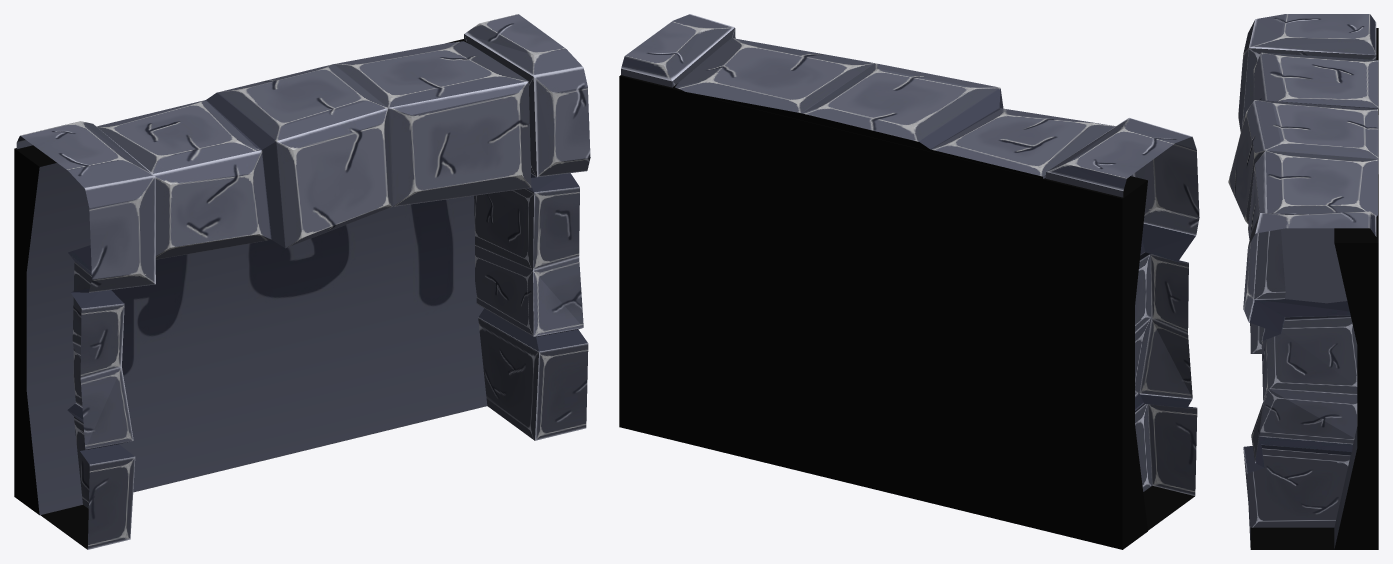
File: Black Back Face.FBX
3 views of the same model, side by side, from view 1: azimuth 30°, elevation 25°; view 2: azimuth 150°, elevation 25°; view 3: azimuth 270°, elevation 25° (orthographic). The views are drawn at different scales.
Parts seen in each view (by area): view 1: Box039, Object002, Object001, Object003; view 2: Box039, Object002, Object003, Object001; view 3: Object001, Object002, Box039, Object003.
Part boxes in pixels (x1,y1,x2,y2): Box039: (14, 39, 487, 515); Object002: (96, 41, 531, 259); Object001: (464, 14, 590, 440); Object003: (16, 121, 155, 549); Box039: (619, 75, 1147, 549); Object002: (675, 38, 1115, 178); Object003: (1045, 118, 1199, 530); Object001: (621, 14, 735, 87); Object001: (1243, 211, 1376, 549); Object002: (1228, 52, 1378, 303); Box039: (1334, 28, 1378, 549); Object003: (1238, 14, 1376, 353).
Size of the model in its own units: 453 by 316 by 134.
